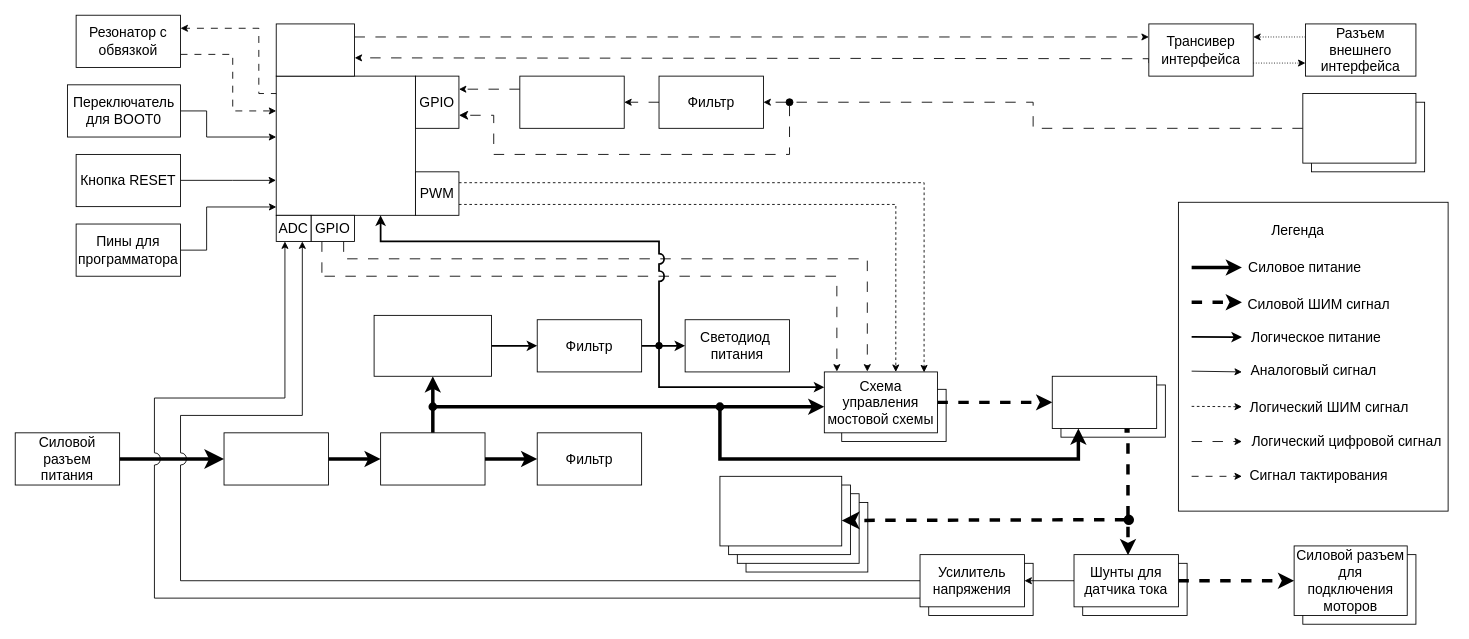
The diagram is 1469 pixels wide and 639 high, and some of its shapes have lost their labels. Each missing label, with the centre of its shape:
Гистерезисный буфер: the point at 571,101
Защита от переполюсовки: the point at 275,458
Защита по току: the point at 432,458
Импульсный DC-DC преобразователь: the point at 432,345
Интерфейс: the point at 315,49
Микроконтроллер: the point at 345,145
Мостовая схема: the point at 1104,401
Разъем энкодера (2 канала + Z-метка): the point at 1359,128
Светодиоды направления вращения моторов: the point at 780,510
